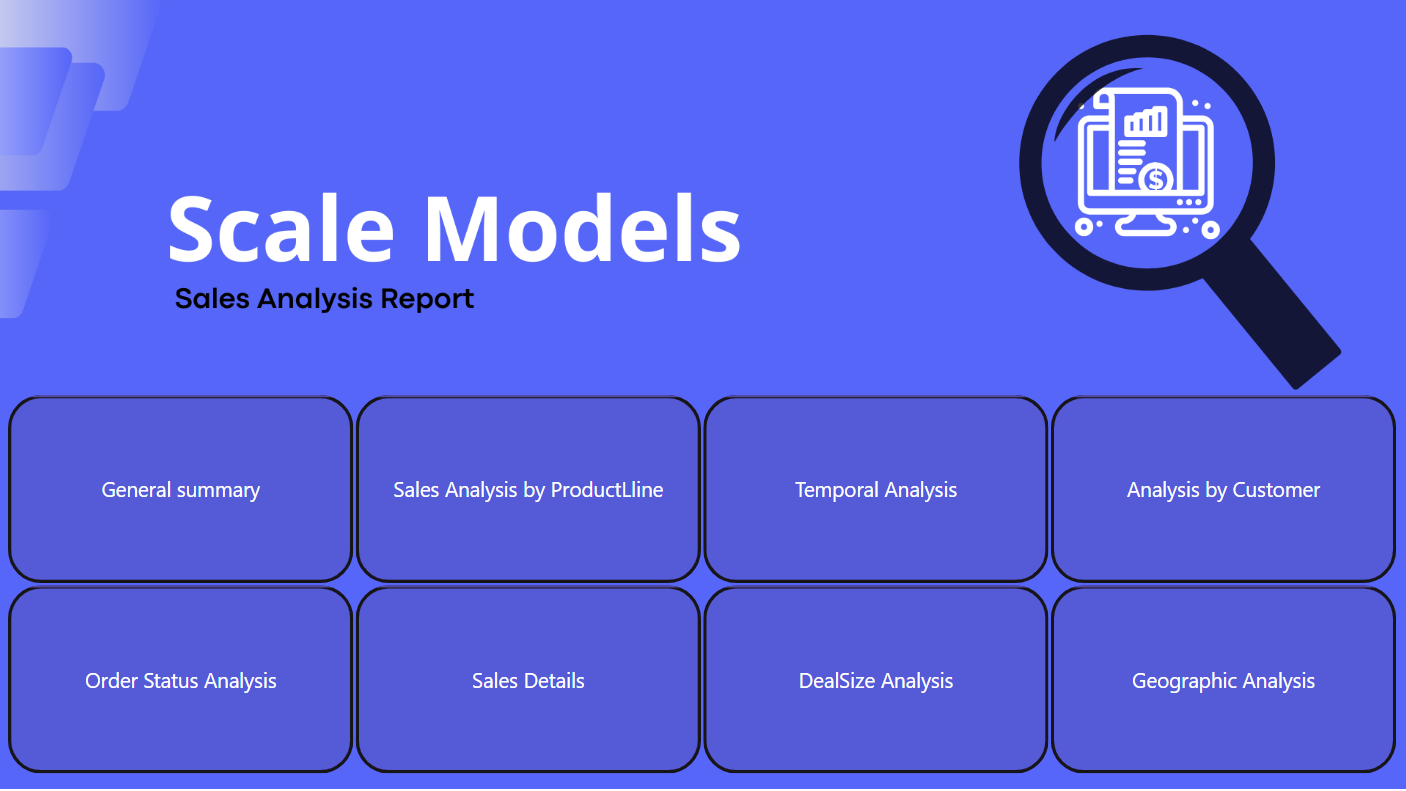

The dashboard page shown, as its layout file describes it:
{"tool":"powerbi","page":{"name":"Home","canvas":[1280,720],"ordinal":0},"visuals":[{"type":"pageNavigator","box":[8,360,1264,344],"z":2000}]}

Visuals, with their boxes in screenshot pixels (x1, y1, x2, y2), scaled from the page's 1280x720 canvas onto the 1406x791 screenshot:
pageNavigator: l=9, t=396, r=1397, b=773
